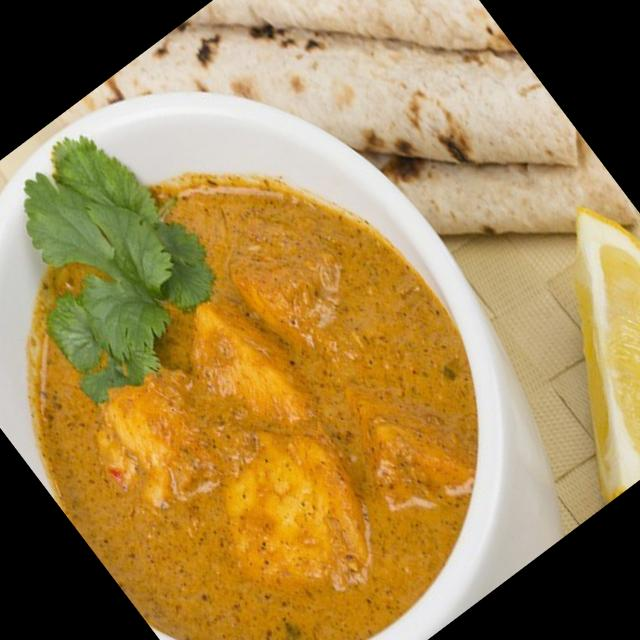ShahiPaneer: (0, 82, 575, 640)
